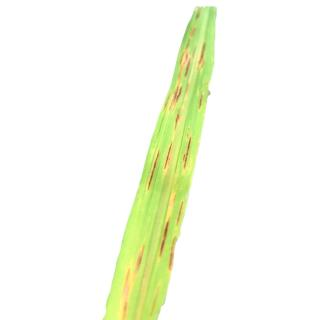Bercak-Cokelat-Sempit: (156, 83, 216, 117), (121, 246, 145, 320), (154, 220, 184, 270), (148, 148, 161, 198), (198, 44, 221, 72), (162, 140, 178, 178), (183, 131, 197, 171), (176, 198, 189, 226)
